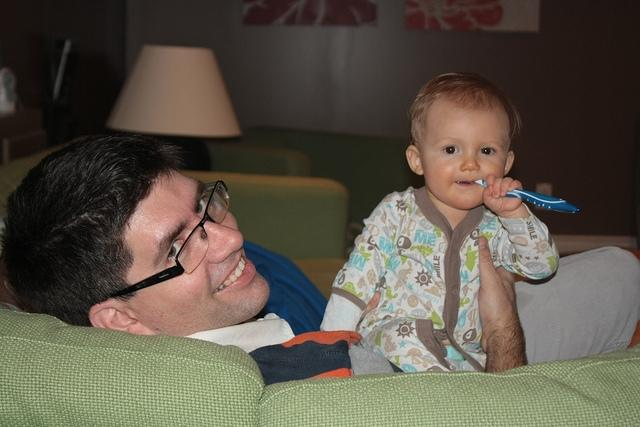apple: (396, 235, 412, 255), (462, 328, 477, 346), (367, 234, 379, 252), (470, 228, 480, 246), (338, 268, 347, 285), (426, 366, 444, 371)
